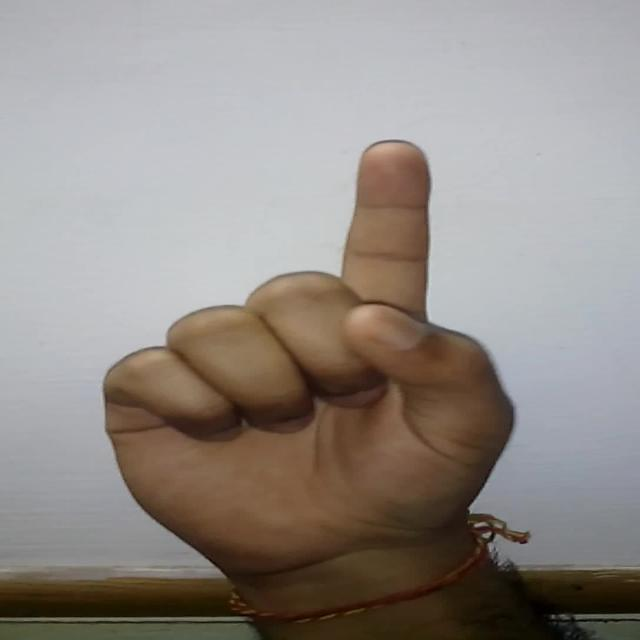I: (92, 134, 484, 556)
